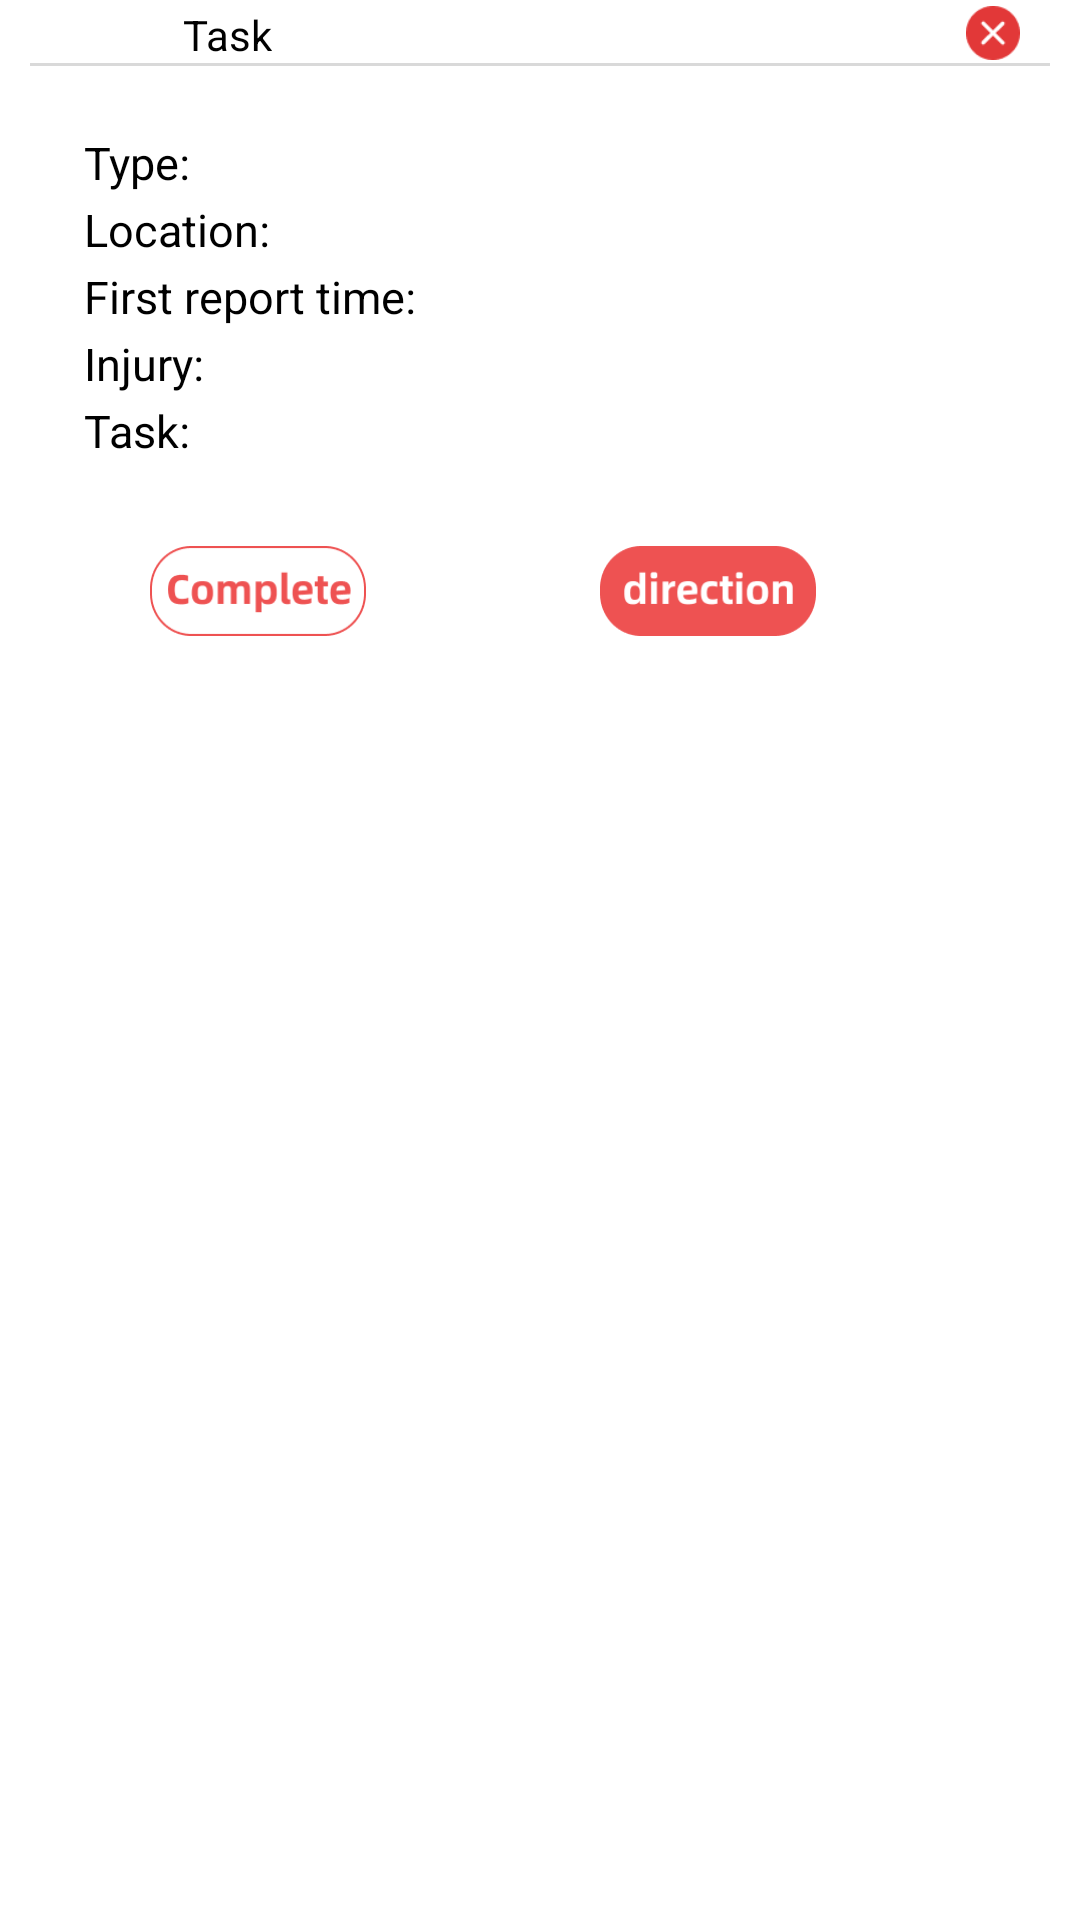

Icons on this 1080px x 1920px Android screen, each with the point to tap as (x=x, y=y):
closebutton: (x=993, y=33)
